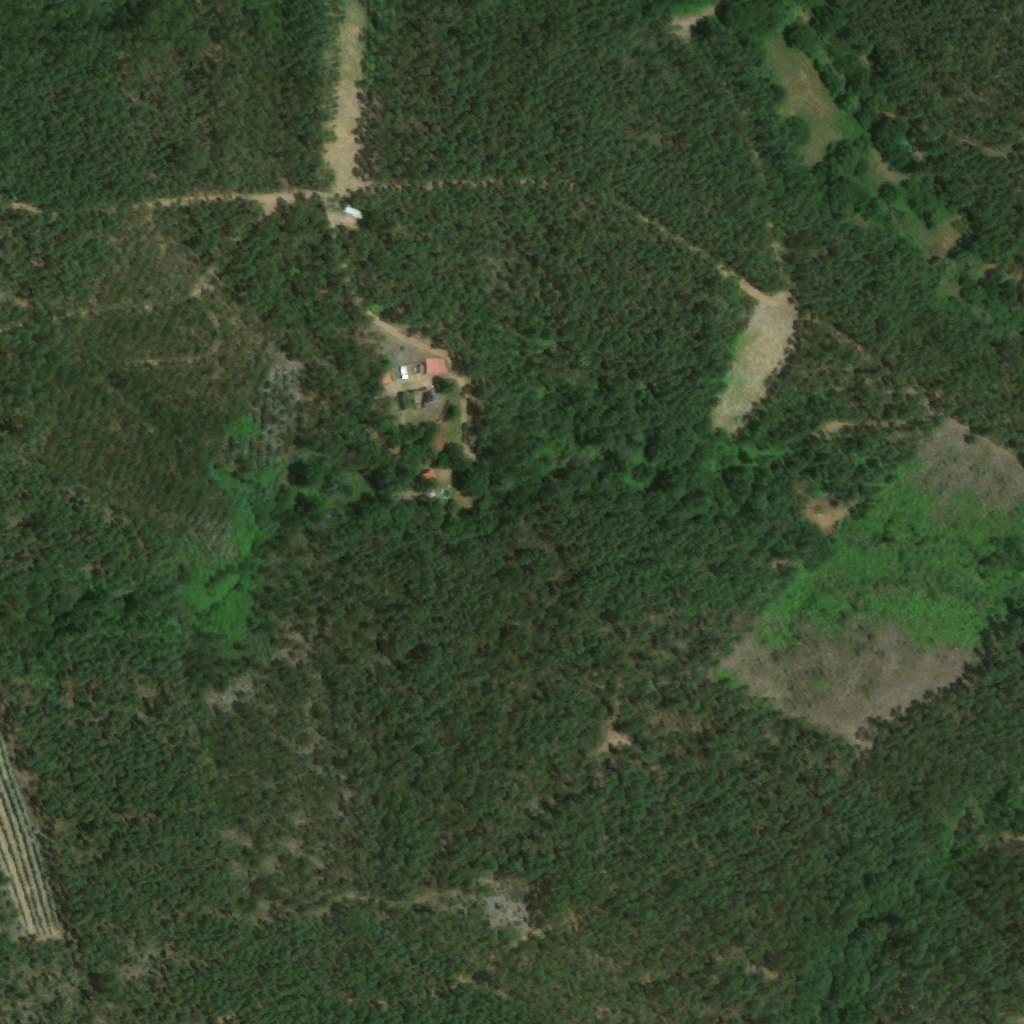0 no-damage: (342, 204, 366, 229), (426, 358, 446, 375), (375, 370, 391, 385), (427, 391, 441, 405), (420, 469, 434, 480)
